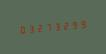nine: (71, 18, 79, 31), (80, 17, 88, 30)
seven: (44, 20, 52, 34)
three: (53, 19, 61, 33), (26, 22, 34, 35)
two: (35, 21, 43, 34), (62, 19, 70, 32)
zero: (17, 23, 25, 36)
